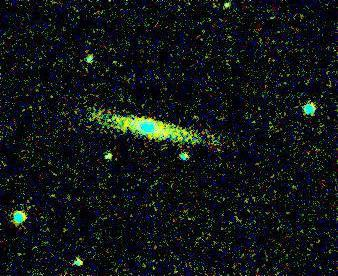star: (211, 0, 241, 23)
